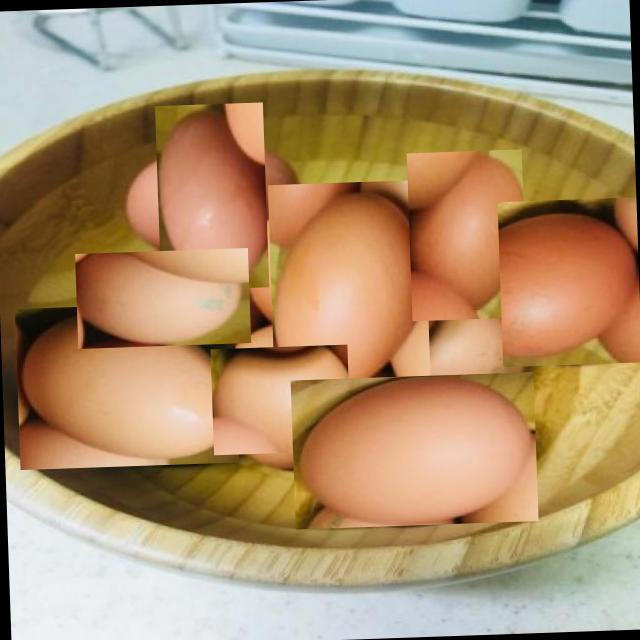eggs: (289, 372, 538, 530), (13, 300, 240, 470), (256, 190, 442, 376), (496, 196, 640, 367), (136, 120, 288, 272), (392, 162, 540, 309), (74, 247, 250, 349), (216, 337, 342, 462)
